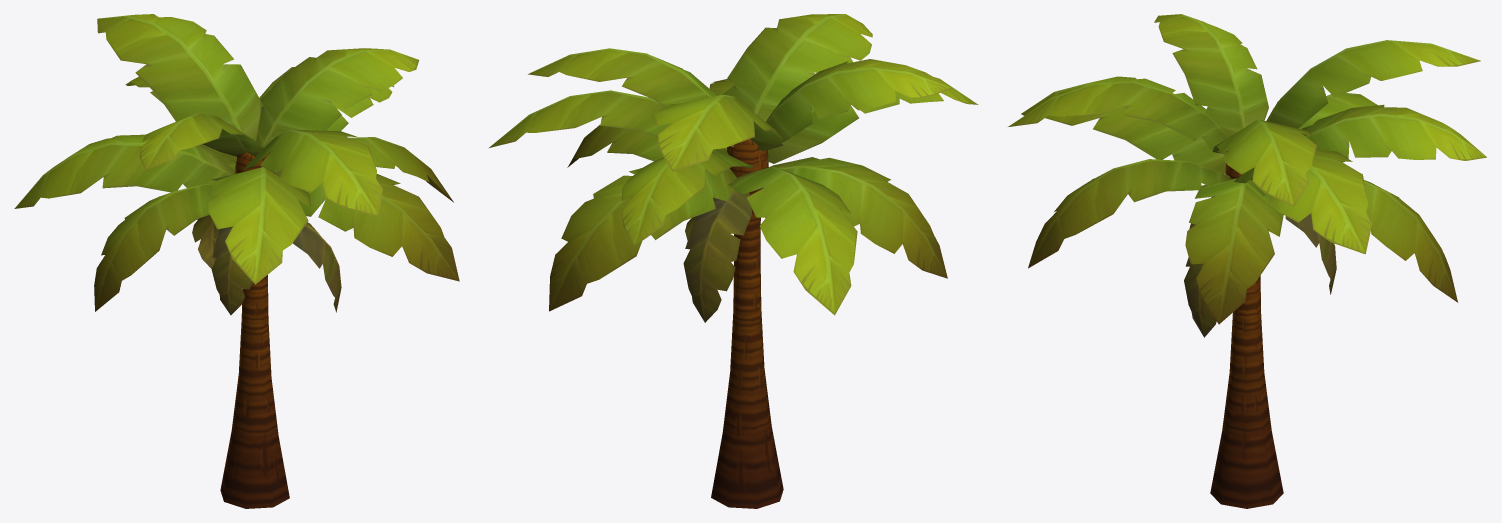
File: BigTree01.fbx
The picture shows the model from 3 angles, left to right: view 1: azimuth 30°, elevation 25°; view 2: azimuth 150°, elevation 25°; view 3: azimuth 270°, elevation 25°; orthographic projection. The views are drawn at different scales.
Visible parts, largest first — view 1: BigTree01; view 2: BigTree01; view 3: BigTree01.
Part boxes in pixels (left/top/right/bottom): BigTree01: left=14, top=14, right=459, bottom=508; BigTree01: left=488, top=14, right=978, bottom=508; BigTree01: left=1008, top=14, right=1486, bottom=508.
Size of the model in its own units: 25.51 by 28.57 by 28.41.
Materials: 1 (1 with a texture image).
